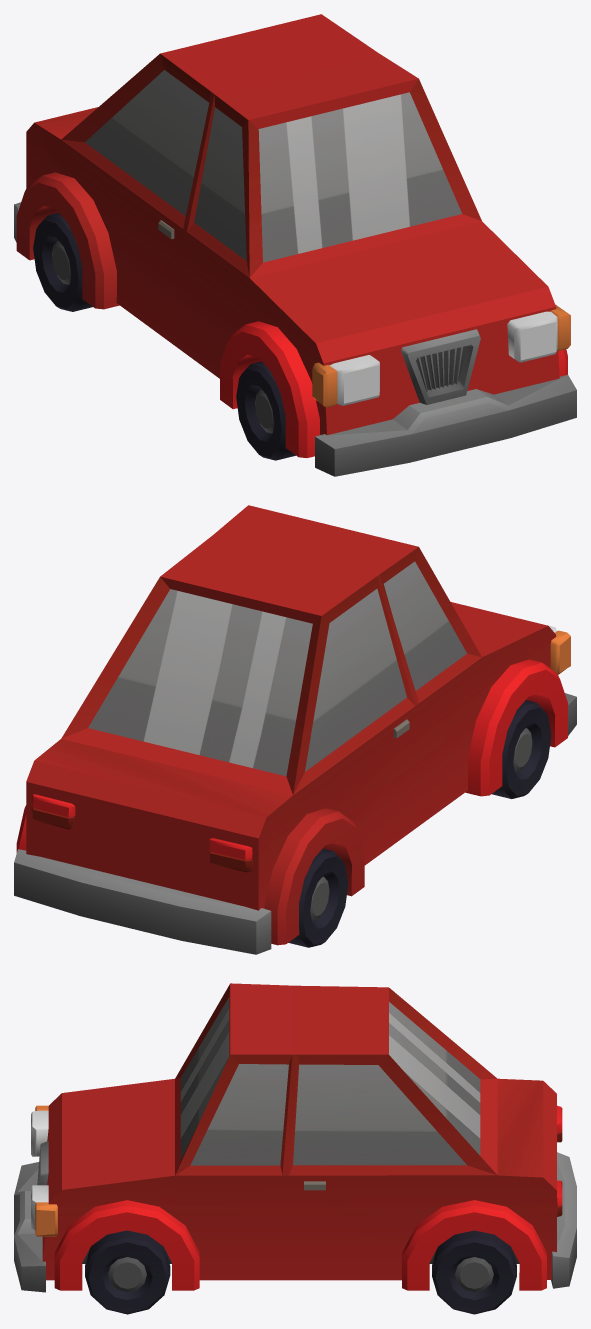
Rendered from Car_4_1.fbx.
The picture shows the model from 3 angles, top to bottom: view 1: azimuth 30°, elevation 25°; view 2: azimuth 150°, elevation 25°; view 3: azimuth 270°, elevation 25°; orthographic projection. The views are drawn at different scales.
Parts seen in each view (by area): view 1: Car_4_1, BWhel_FR, BWhel_BR; view 2: Car_4_1, BWhel_BR, BWhel_FR; view 3: Car_4_1, BWhel_FL, BWhel_BL.
Part boxes in pixels (x1,y1,x2,y2): Car_4_1: (14,14,576,476); BWhel_FR: (236,361,295,460); BWhel_BR: (33,212,92,311); Car_4_1: (14,505,576,954); BWhel_BR: (288,848,348,947); BWhel_FR: (491,700,551,798); Car_4_1: (14,983,576,1292); BWhel_FL: (85,1230,170,1314); BWhel_BL: (432,1230,516,1314).
Size of the model in its own units: 109 by 109 by 230.
